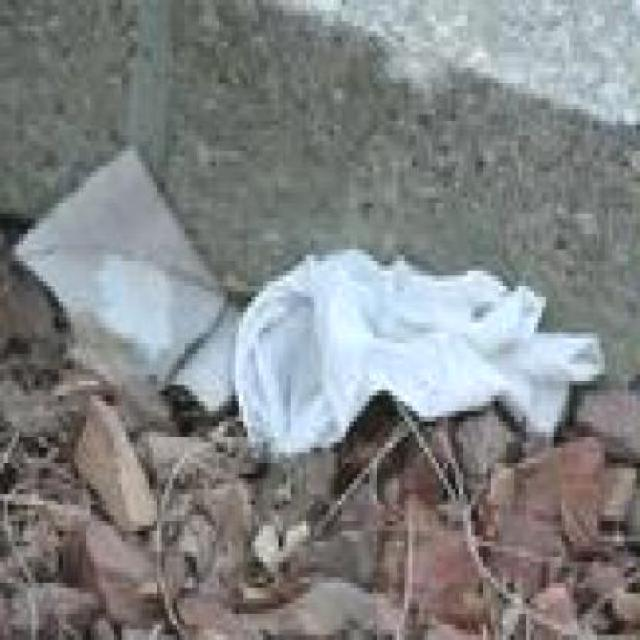glove: (228, 242, 612, 458)
